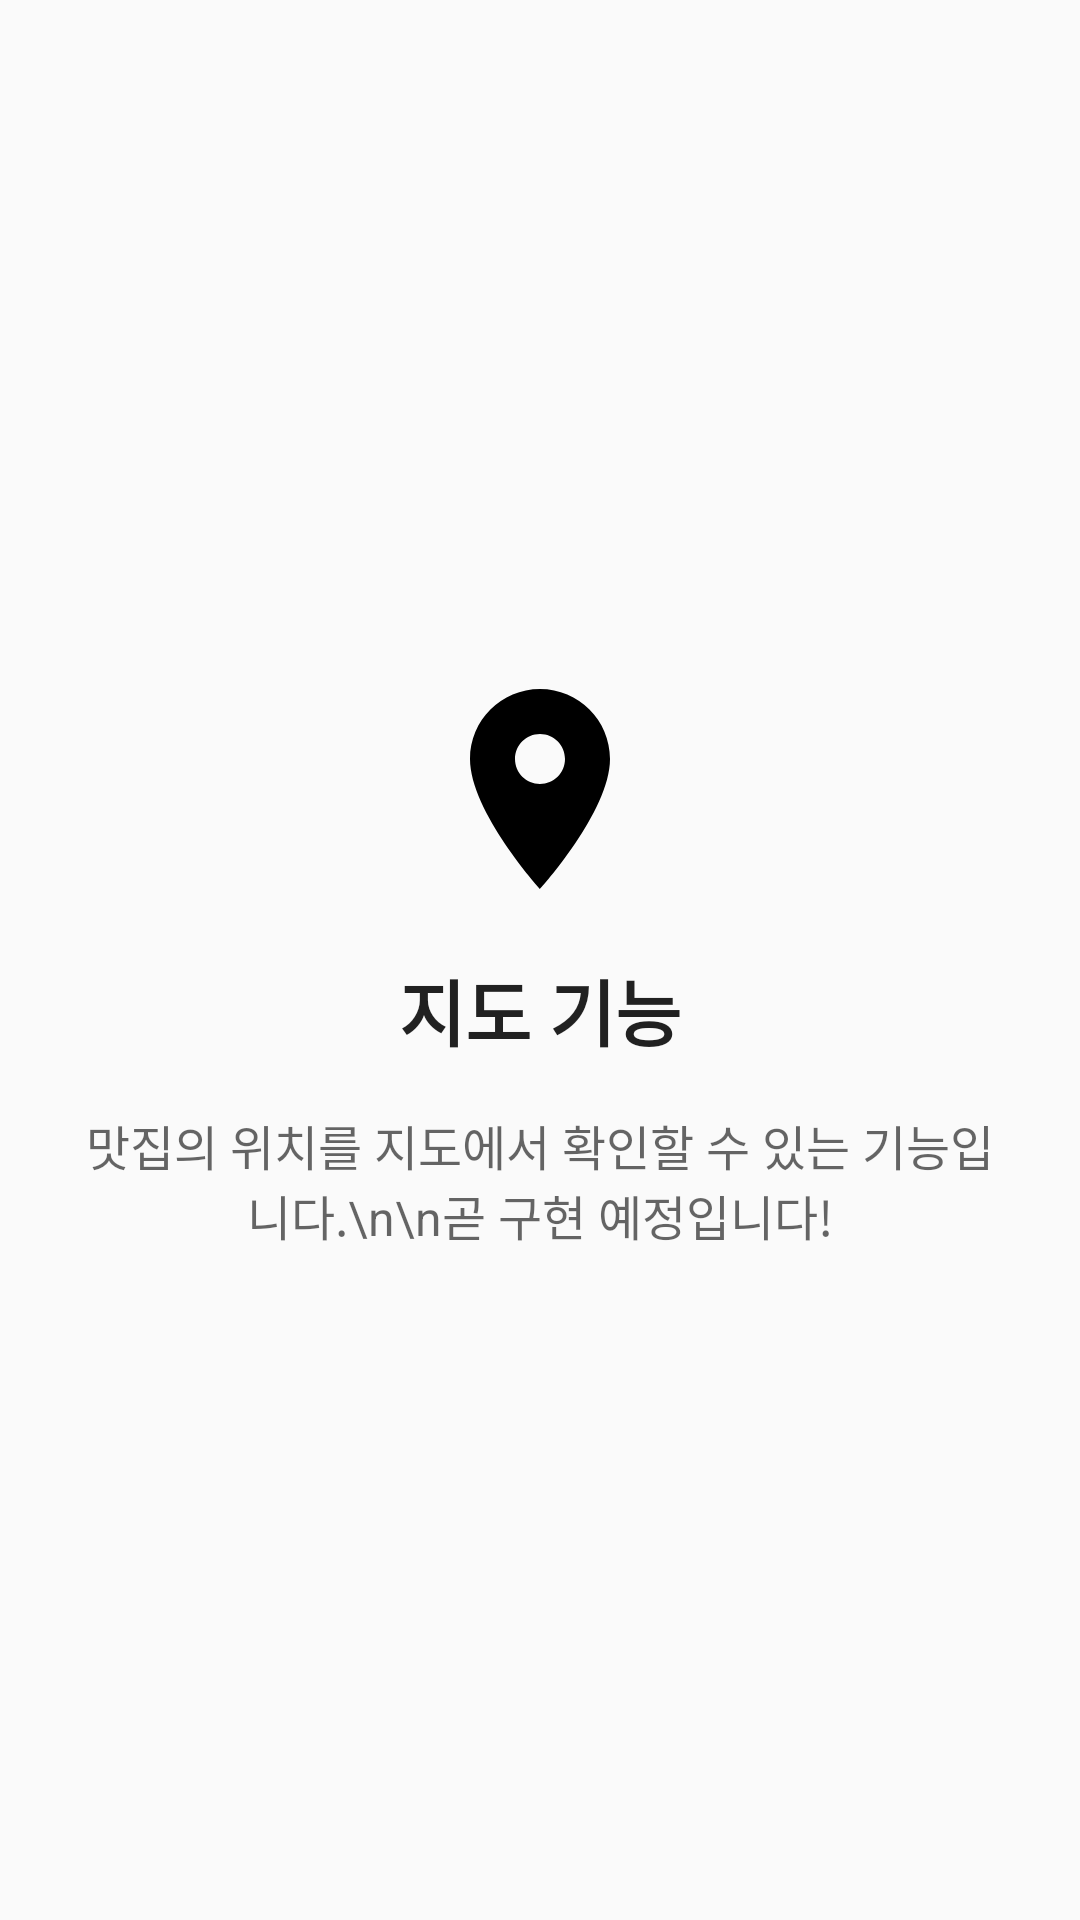

Named icons in this screenshot (1080*1920) and their centers, [x,y]:
지도 아이콘: [540,789]
